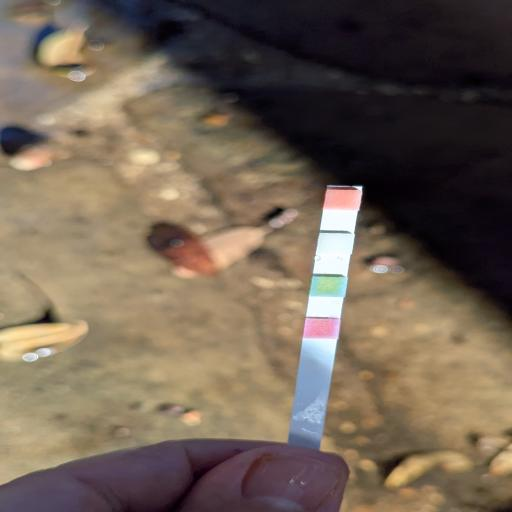strip: (288, 185, 364, 451)
